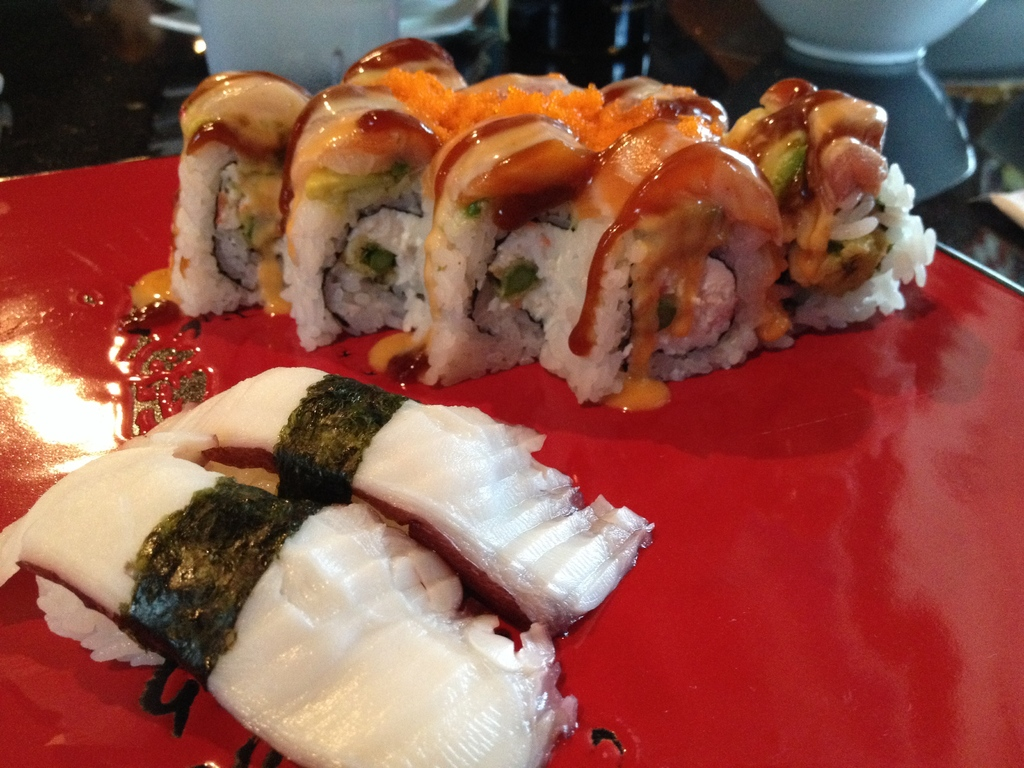sushi: (179, 31, 939, 401), (1, 449, 567, 761), (149, 369, 659, 642), (138, 72, 317, 321)
